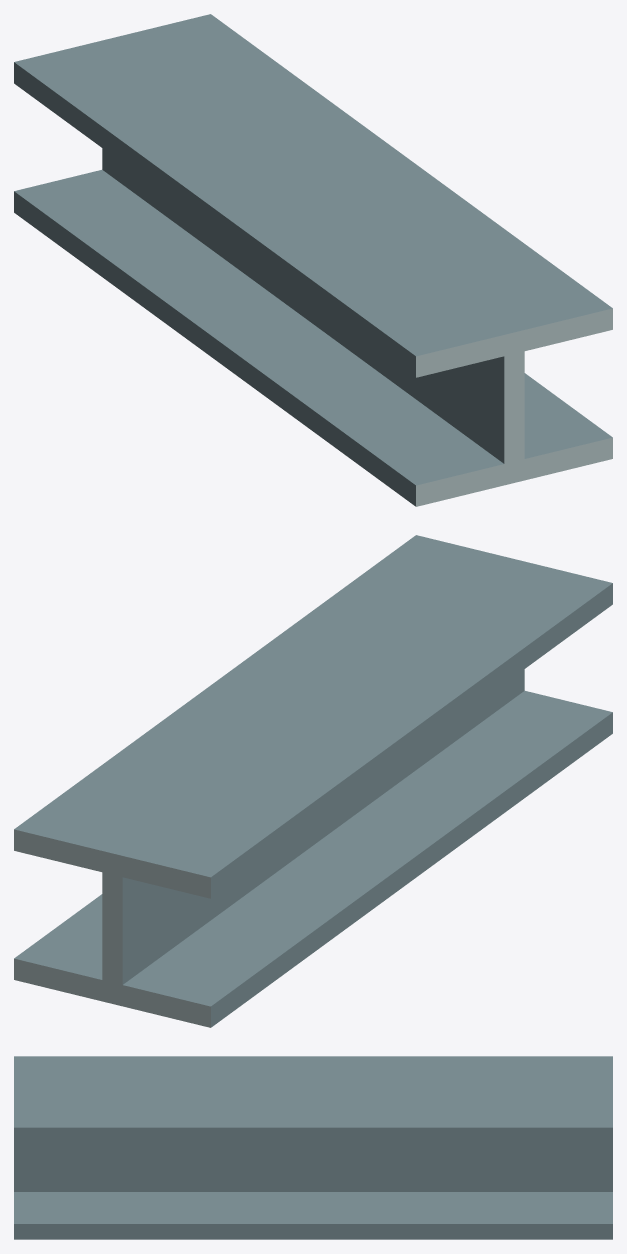
The model's file is Steel_I_Beam.glb.
3 views of the same model, one above another, from view 1: azimuth 30°, elevation 25°; view 2: azimuth 150°, elevation 25°; view 3: azimuth 270°, elevation 25° (orthographic). The views are drawn at different scales.
Parts seen in each view (by area): view 1: Steel_I_Beam; view 2: Steel_I_Beam; view 3: Steel_I_Beam.
Boxes of the visible parts, bbox=[...] form: Steel_I_Beam: bbox=[14, 14, 612, 506]; Steel_I_Beam: bbox=[14, 535, 612, 1027]; Steel_I_Beam: bbox=[14, 1056, 612, 1239].
Bounding box in the file's own units: 0.26 × 0.19 × 0.92.
